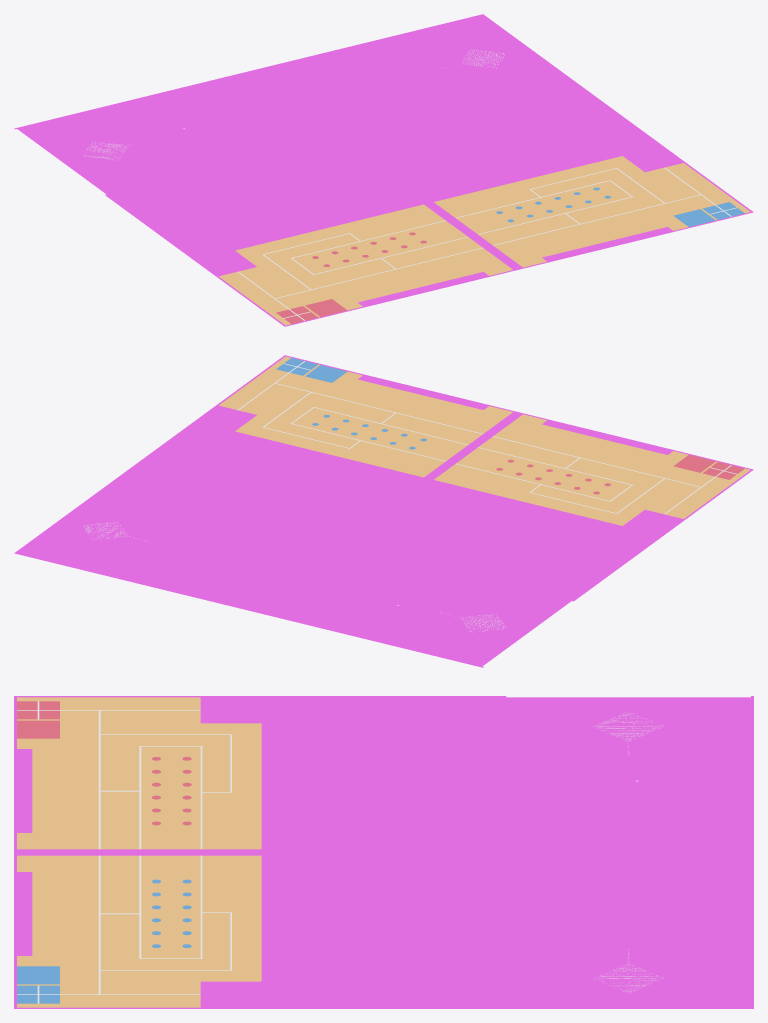
The model's file is abu2024_floor1.dae.
3 views of the same model, one above another, from view 1: azimuth 30°, elevation 25°; view 2: azimuth 150°, elevation 25°; view 3: azimuth 270°, elevation 25° (orthographic). The views are drawn at different scales.
Parts seen in each view (by area): view 1: group_0, group_0.008, group_0.053, group_0.060, group_0.003, group_0.045, group_0.082, group_0.017, group_0.080, group_0.055, group_0.028, group_0.001 (+3 smaller); view 2: group_0, group_0.008, group_0.053, group_0.003, group_0.060, group_0.082, group_0.045, group_0.080, group_0.017, group_0.028, group_0.055, group_0.049 (+3 smaller); view 3: group_0, group_0.008, group_0.053, group_0.003, group_0.060, group_0.045, group_0.082, group_0.017, group_0.080, group_0.028, group_0.055, group_0.043 (+5 smaller).
Part boxes in pixels (x1,y1,x2,y2): group_0: (14,14,753,326); group_0.008: (493,195,717,267); group_0.053: (276,248,512,317); group_0.060: (235,204,444,298); group_0.003: (434,156,699,217); group_0.045: (456,181,631,234); group_0.082: (293,221,467,274); group_0.017: (531,168,663,223); group_0.080: (264,234,394,289); group_0.055: (382,237,482,268); group_0.028: (478,214,578,245); group_0.001: (456,167,736,245); group_0: (14,355,753,667); group_0.008: (276,364,512,433); group_0.053: (493,414,717,486); group_0.003: (235,383,444,477); group_0.060: (434,464,699,525); group_0.082: (456,447,631,500); group_0.045: (293,407,467,460); group_0.080: (531,458,663,513); group_0.017: (264,392,394,447); group_0.028: (382,413,482,444); group_0.055: (478,436,578,467); group_0.049: (456,436,736,514); group_0: (14,696,753,1008); group_0.008: (17,855,98,994); group_0.053: (17,710,98,849); group_0.003: (100,855,261,994); group_0.060: (100,710,261,849); group_0.045: (141,855,200,958); group_0.082: (141,746,200,849); group_0.017: (100,913,230,969); group_0.080: (100,735,230,791); group_0.028: (100,855,139,913); group_0.055: (100,791,139,849); group_0.043: (17,995,200,1007).
Bounding box in the file's own units: 12.1 × 12.1 × 0.
